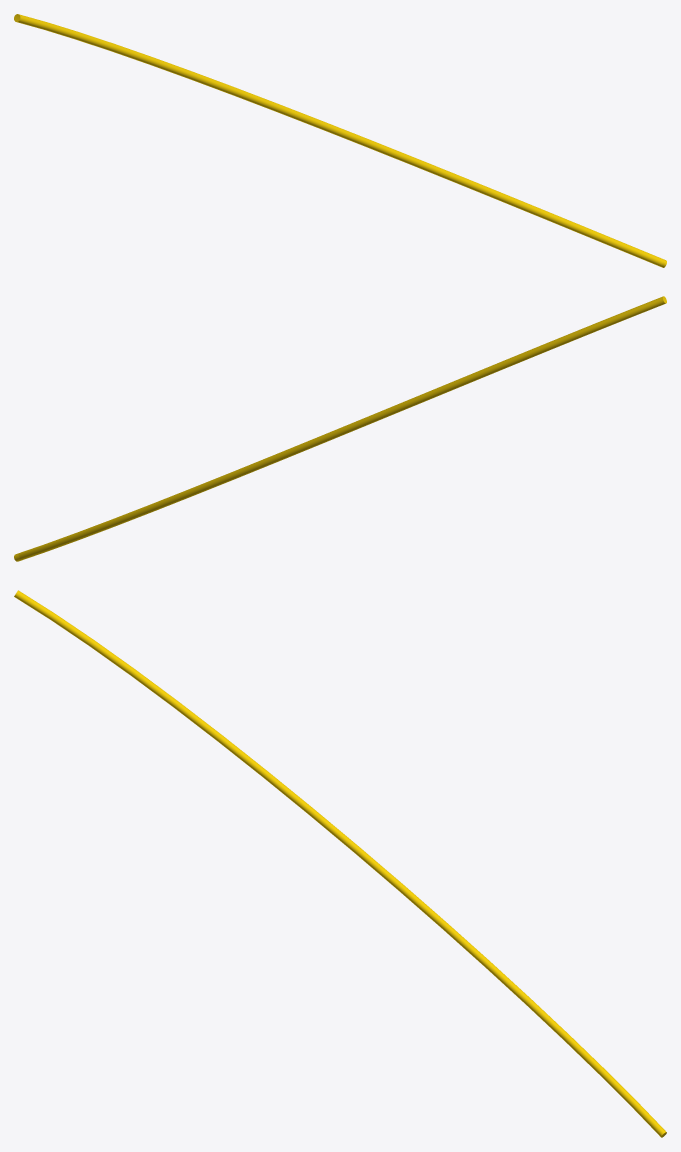
File: Event_421115418_track_38.fbx
The picture shows the model from 3 angles, top to bottom: view 1: azimuth 30°, elevation 25°; view 2: azimuth 150°, elevation 25°; view 3: azimuth 330°, elevation 25°; orthographic projection. The views are drawn at different scales.
Parts seen in each view (by area): view 1: Model; view 2: Model; view 3: Model.
Boxes of the visible parts, left/top/right/bottom form: Model: left=14, top=14, right=666, bottom=267; Model: left=14, top=296, right=666, bottom=561; Model: left=14, top=590, right=666, bottom=1137.
Bounding box in the file's own units: 3.76 × 2.3 × 0.3094.
